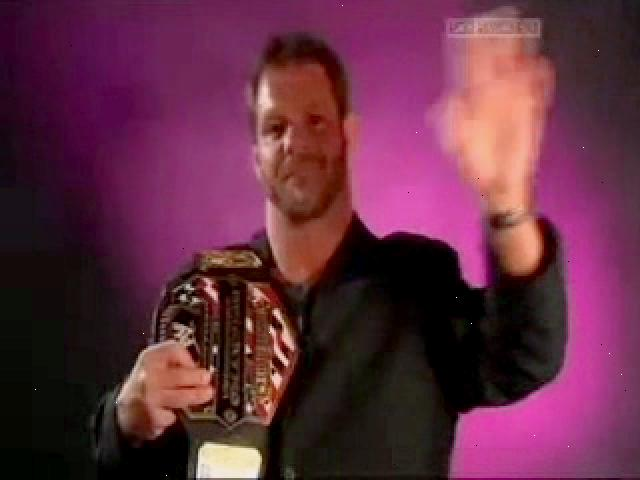L: (95, 28, 565, 479)
